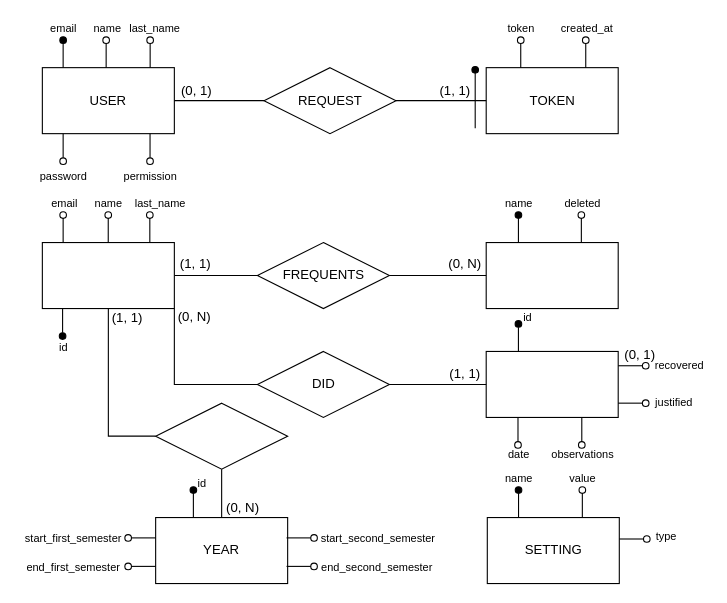
Image size: 727x603. Some labels were removed from this diagram. The box of each missing label's shape, as (x1, y1, x2, y2) in pixels:
BELONGS: (155, 402, 288, 469)
DELAY: (485, 350, 618, 417)
SECTION: (485, 241, 618, 309)
STUDENT: (41, 241, 174, 309)
